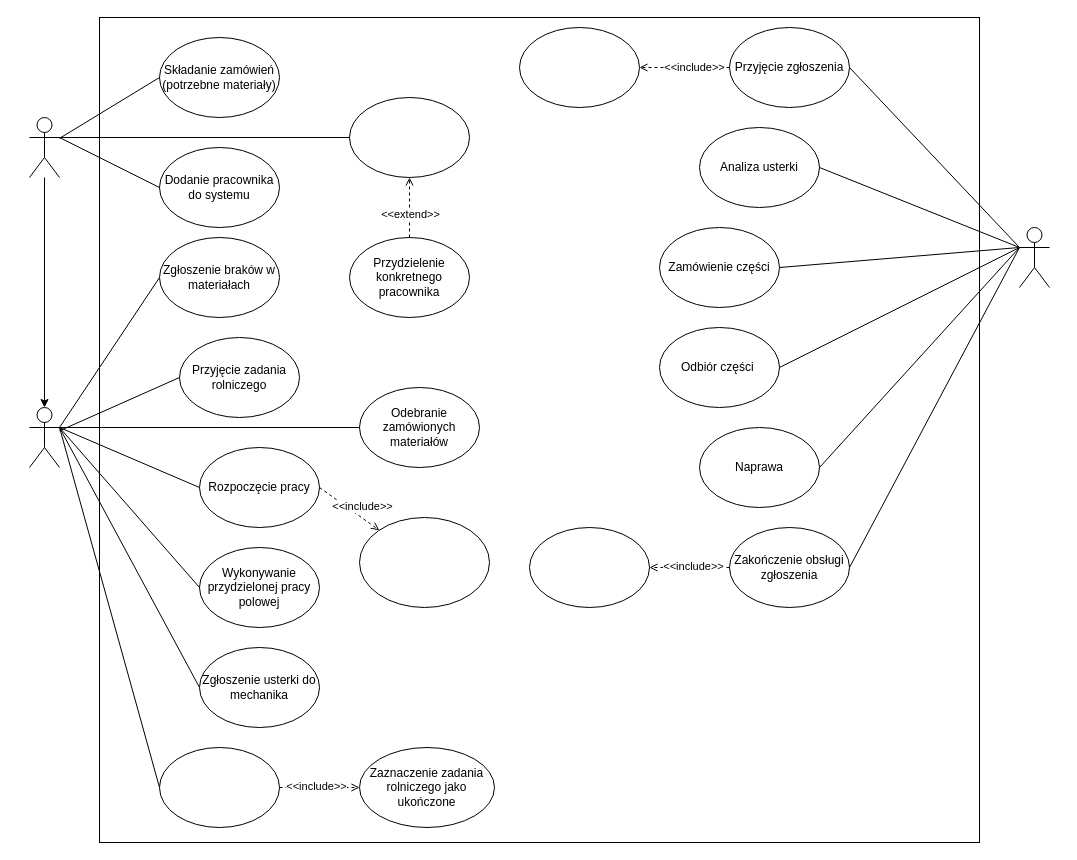
Some shapes in this 1077 by 860 pixel diagram are drawn without their labels. Each missing label, with the centre of its shape:
Mechanik: pixel 1034 257
Powiadomienie pracownika o gotowości odbioru: pixel 589 567
Pracownik: pixel 44 437
Wstawienie opisu konkretnego zadania rolniczego: pixel 409 137
Właściciel: pixel 44 147
Zabranie materiałów i maszyny rolniczej potrzebnej do pracy: pixel 424 562
Zakończenie pracy: pixel 219 787
Zlecenie odbioru maszyny od pracownika: pixel 579 67
